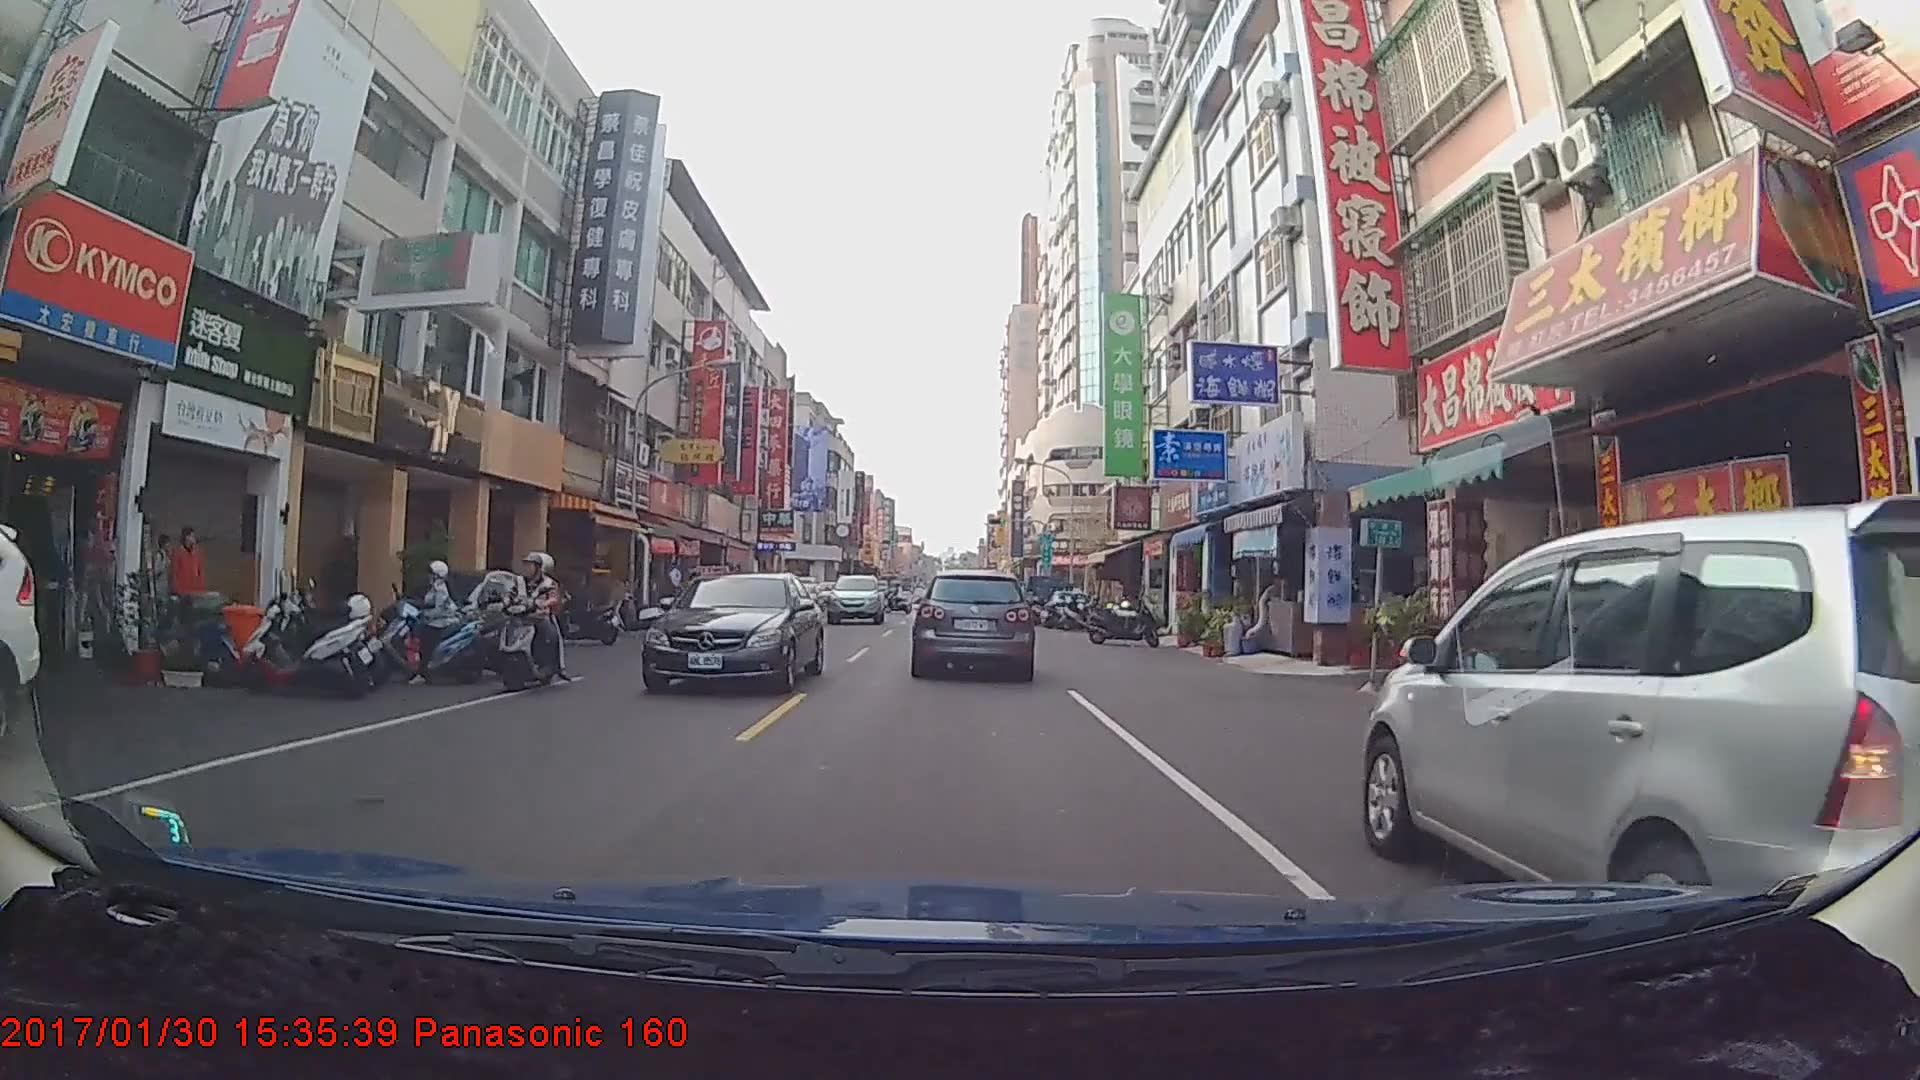pedestrian: (167, 519, 214, 643), (145, 523, 180, 641)
rider: (487, 544, 571, 696)
vehicle: (1364, 505, 1920, 956), (641, 570, 827, 696), (909, 569, 1034, 679), (827, 574, 884, 625), (1024, 574, 1069, 617)
